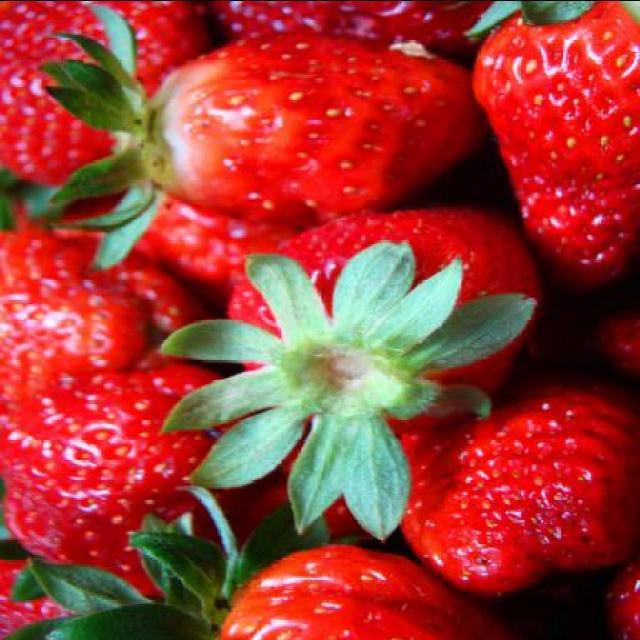Strawberry: (0, 2, 638, 640), (46, 2, 478, 268), (467, 3, 639, 292)
